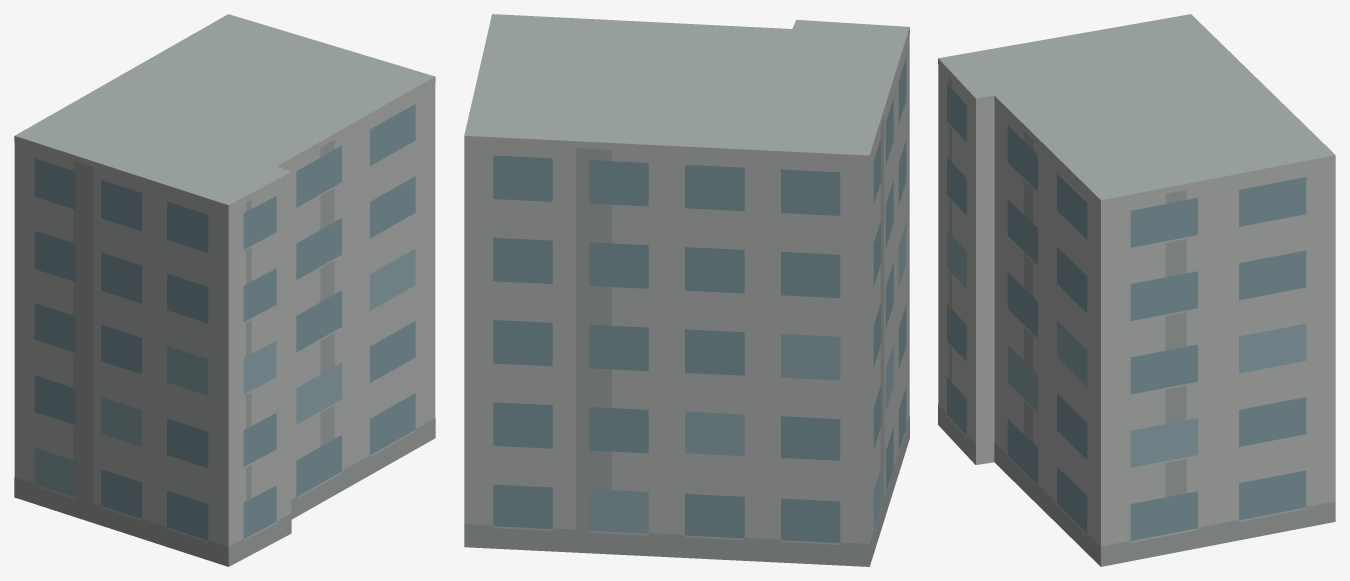
File: survey-upis-32859943.glb
The picture shows the model from 3 angles, left to right: view 1: azimuth 30°, elevation 25°; view 2: azimuth 150°, elevation 25°; view 3: azimuth 270°, elevation 25°; orthographic projection. The views are drawn at different scales.
Parts seen in each view (by area): view 1: survey-upis-32859943.tmp; view 2: survey-upis-32859943.tmp; view 3: survey-upis-32859943.tmp.
Boxes of the visible parts, x1,y1,x2,y2 form: survey-upis-32859943.tmp: (14, 14, 435, 566); survey-upis-32859943.tmp: (464, 14, 909, 566); survey-upis-32859943.tmp: (938, 14, 1335, 566).
Size of the model in its own units: 15.64 by 14.35 by 14.11.
